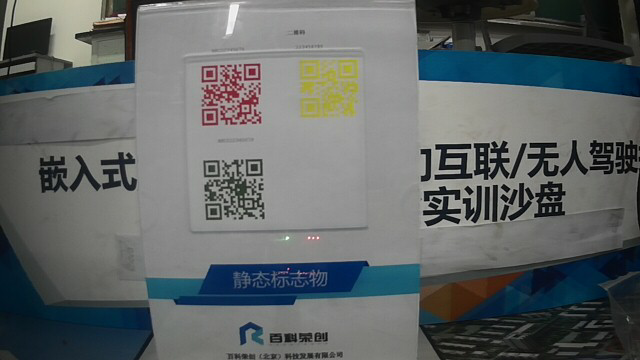qrcode: (197, 60, 266, 129), (201, 156, 269, 224), (294, 57, 363, 122)
